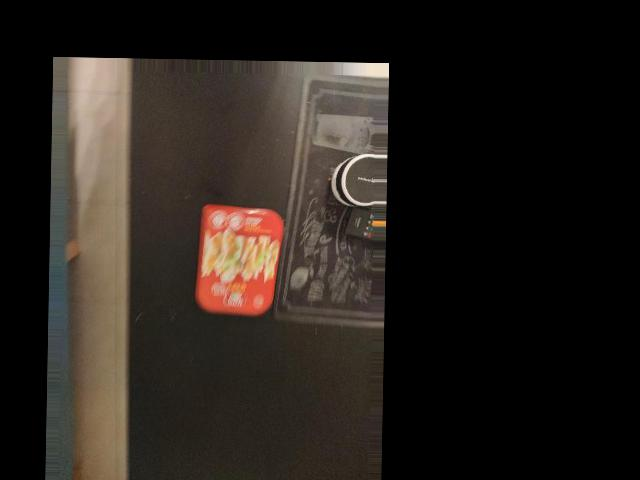cheese: (194, 204, 284, 316)
